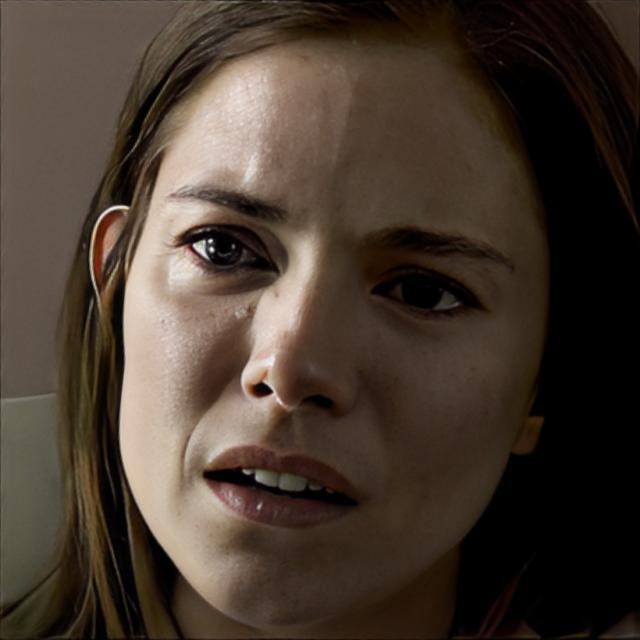sad: (115, 38, 559, 638)
